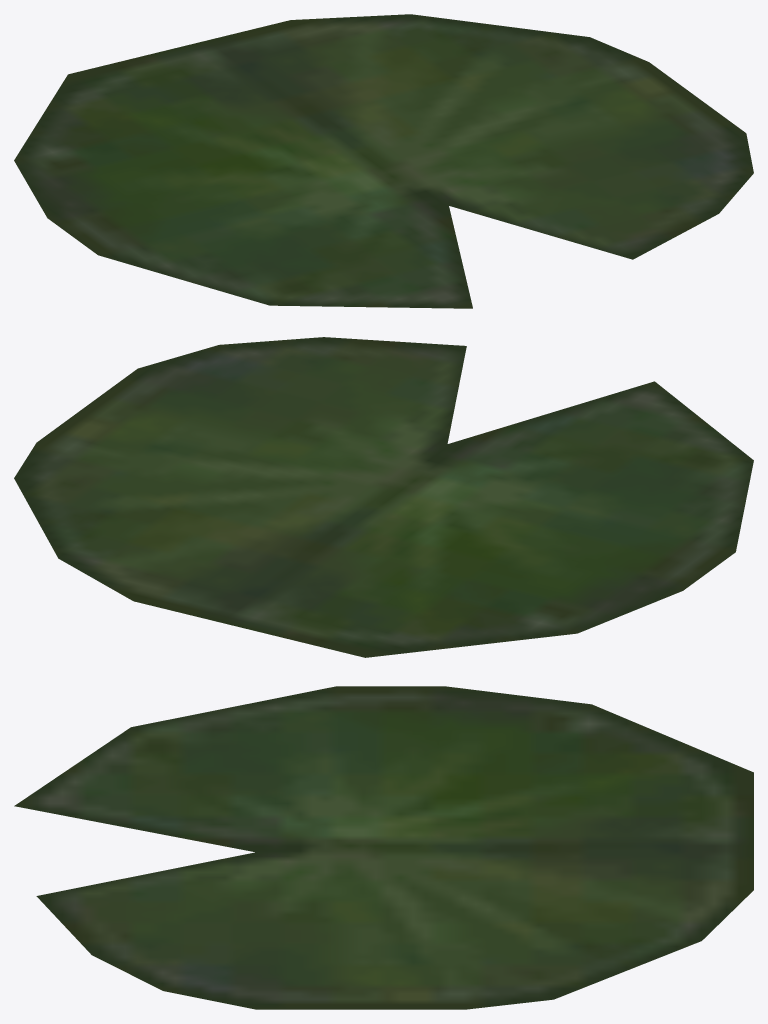
The model's file is Common_OBJ_Lotus_01.fbx.
3 renders of one model, top to bottom at view 1: azimuth 30°, elevation 25°; view 2: azimuth 150°, elevation 25°; view 3: azimuth 270°, elevation 25°, orthographic. The views are drawn at different scales.
Visible parts, largest first — view 1: Common_OBJ_Lotus_01; view 2: Common_OBJ_Lotus_01; view 3: Common_OBJ_Lotus_01.
Part boxes in pixels (box(x1,y1,x2,y2)): Common_OBJ_Lotus_01: box(14, 14, 753, 308); Common_OBJ_Lotus_01: box(14, 337, 753, 657); Common_OBJ_Lotus_01: box(14, 686, 753, 1009).
Bounding box in the file's own units: 50 × 1.37e-14 × 48.38.
Materials: 1 (1 with a texture image).
